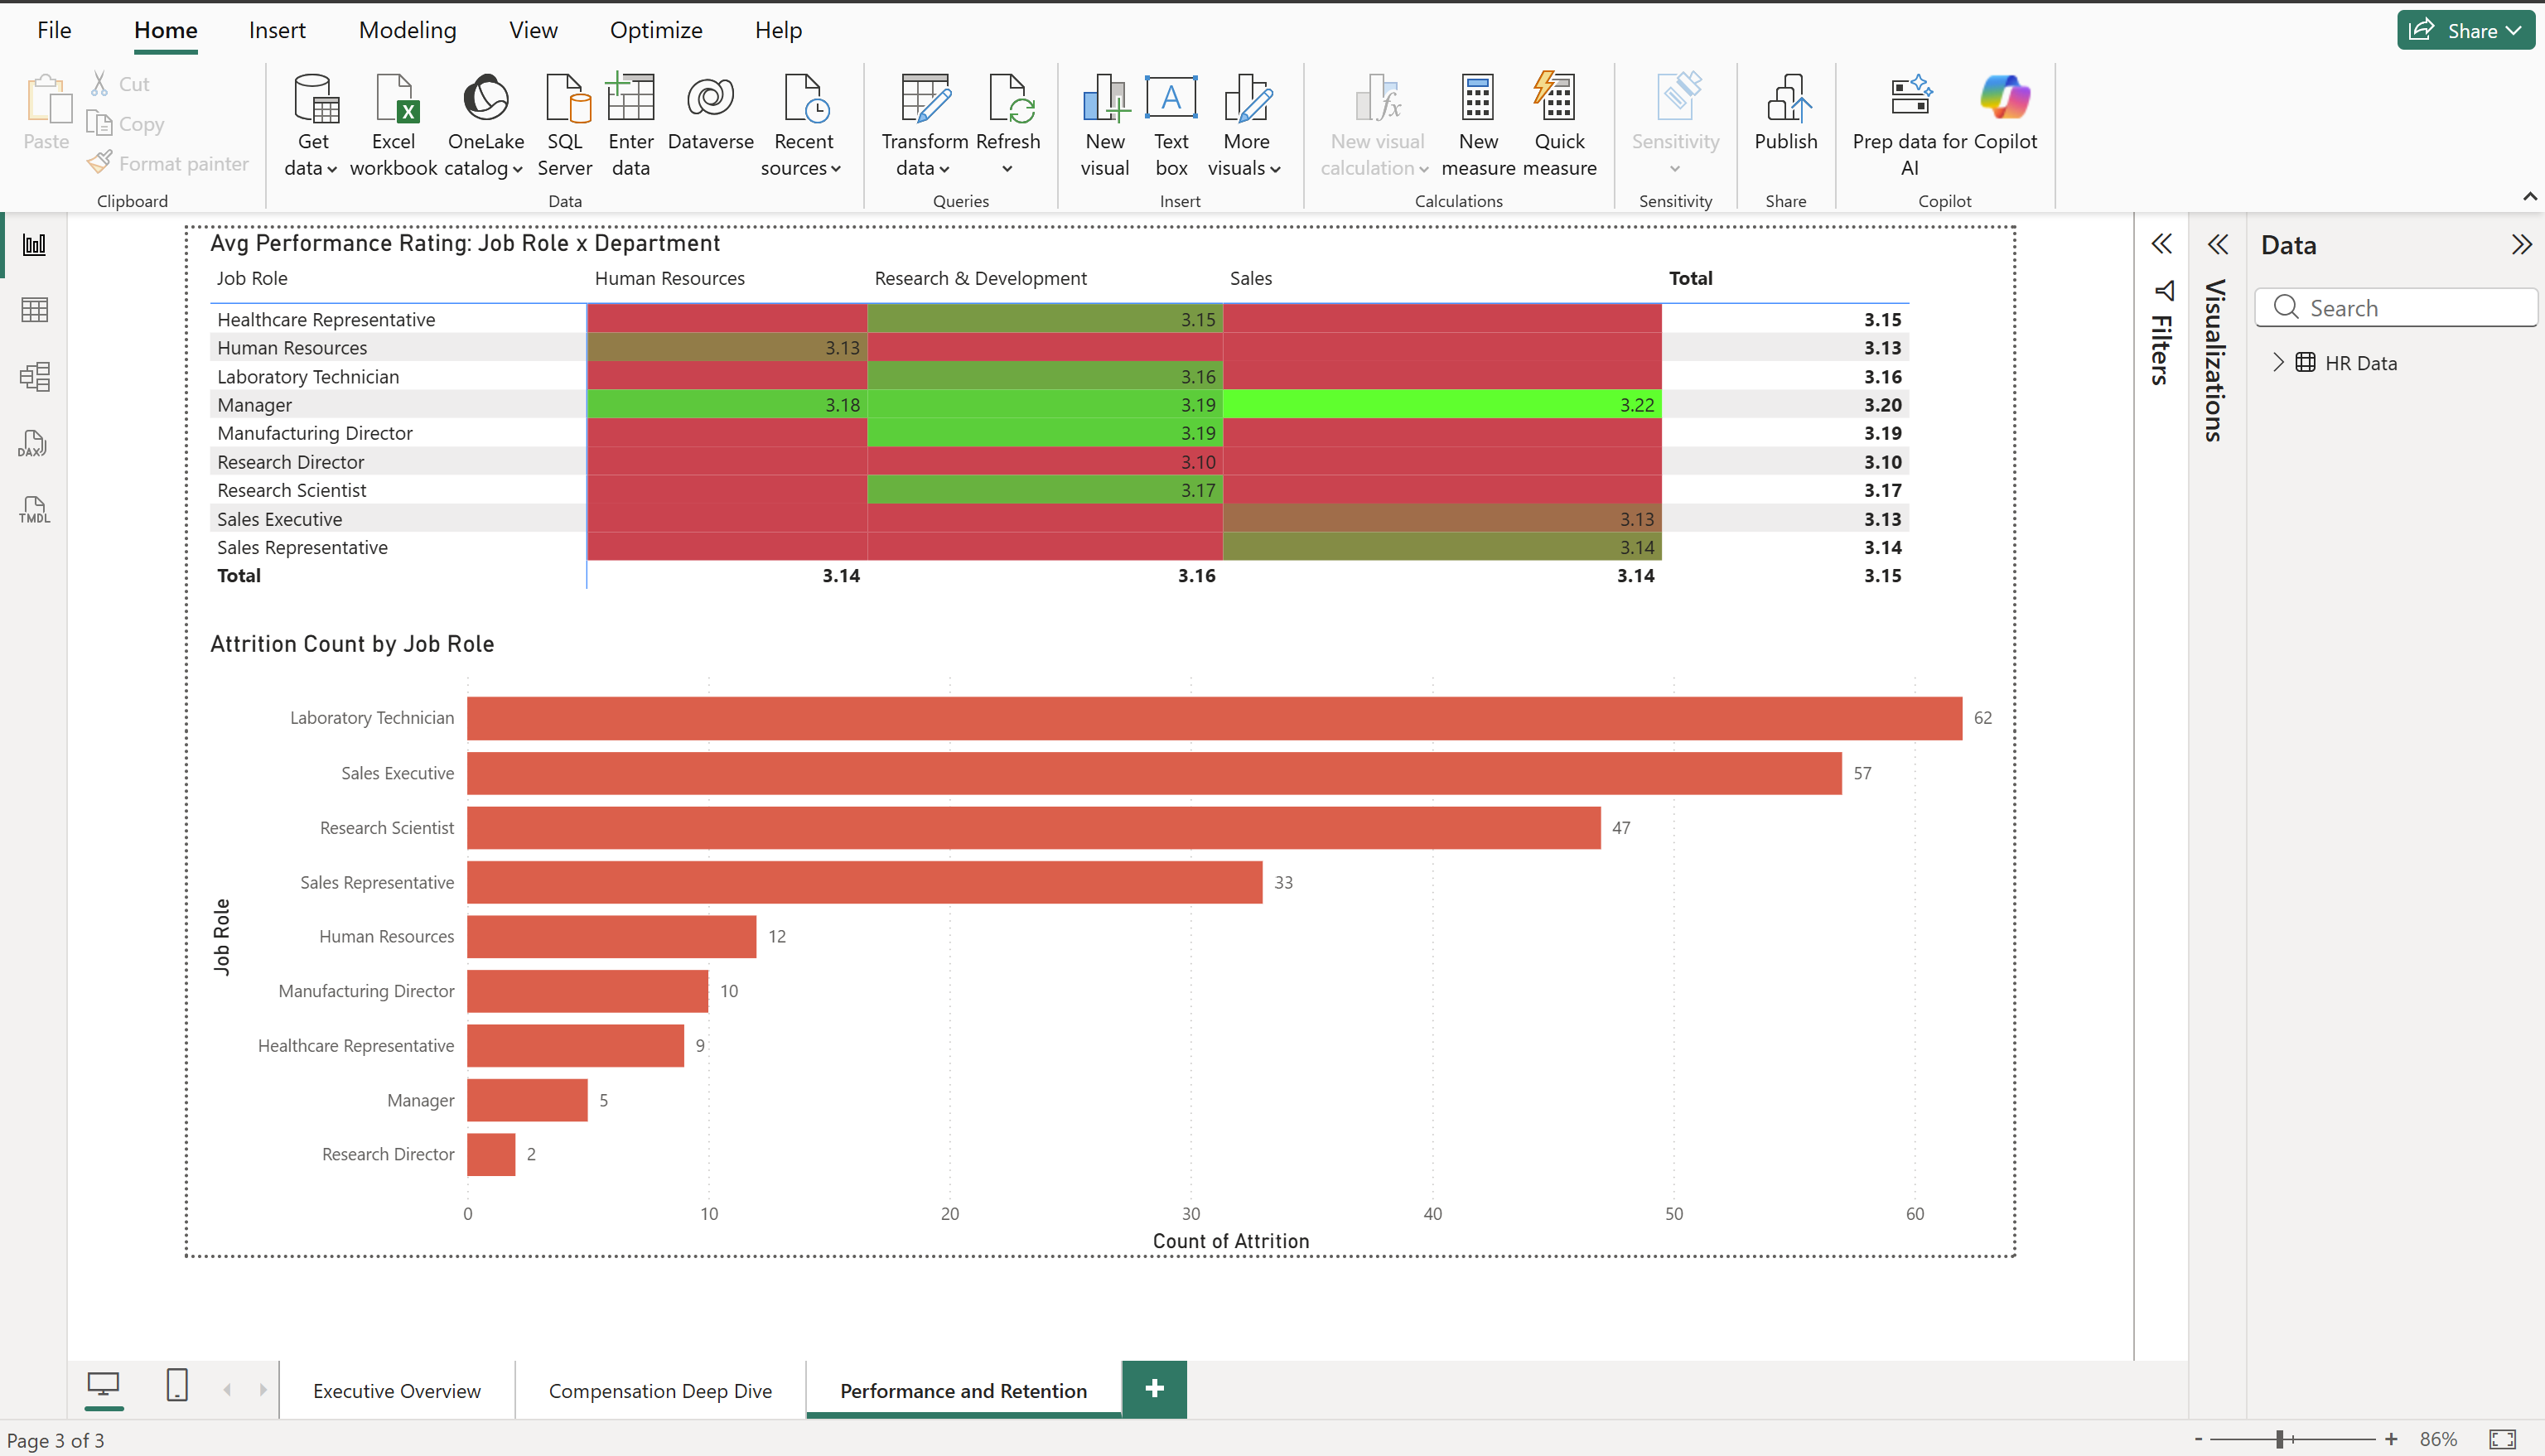

The dashboard page shown, as its layout file describes it:
{"tool":"powerbi","page":{"name":"Performance and Retention","canvas":[1280,720],"ordinal":2},"visuals":[{"type":"pivotTable","title":"Avg Performance Rating: Job Role x Department","fields":{"Rows":["HR Data.Job Role"],"Columns":["HR Data.Department"],"Values":["Avg(HR Data.Performance Rating)"]},"box":[10.5,0,1269.5,281.2],"z":0},{"type":"clusteredBarChart","title":"Attrition Count by Job Role","fields":{"Category":["HR Data.Job Role"],"Y":["CountNonNull(HR Data.Attrition)"]},"box":[10.5,281.2,1269.5,441.6],"z":1}]}

Visuals, with their boxes on the page's 1280x720 design canvas (x1, y1, x2, y2). These are canvas units, not pixel positions in the 2545x1456 screenshot, which may show the page scaled, cropped or inside an application window:
"Avg Performance Rating: Job Role x Department" pivotTable: {"x1": 10, "y1": 0, "x2": 1280, "y2": 281}
"Attrition Count by Job Role" clusteredBarChart: {"x1": 10, "y1": 281, "x2": 1280, "y2": 723}
